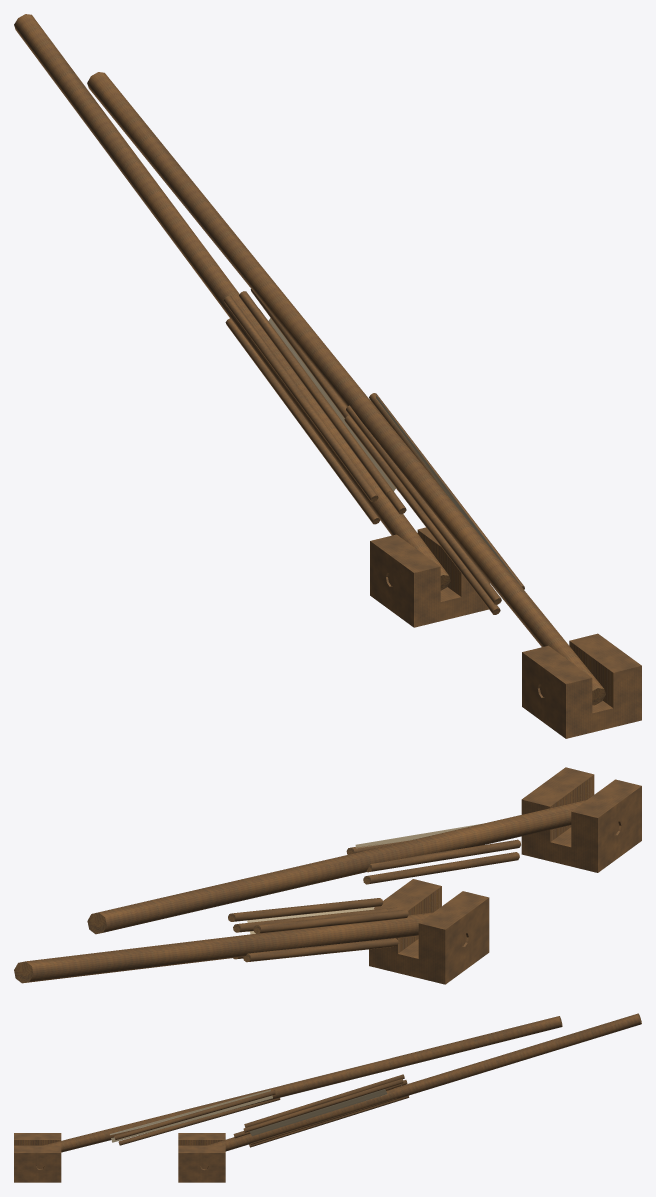
File: MasterIdle.FBX
3 renders of one model, top to bottom at view 1: azimuth 30°, elevation 25°; view 2: azimuth 150°, elevation 25°; view 3: azimuth 270°, elevation 25°, orthographic. The views are drawn at different scales.
Parts seen in each view (by area): view 1: SailPole, SailPoleSub, BaseSailPole, BaseSailPoleSub, SailClothPoleSub002, SailClothPoleSub003, SailClothPoleSub005, SailClothPoleMain004, SailClothPoleMain005, SailClothPoleMain002; view 2: SailPole, BaseSailPole, SailPoleSub, BaseSailPoleSub, SailClothPoleSub002, SailClothPoleMain005, SailClothPoleSub001, SailClothPoleSub005, SailClothPoleMain004, SailClothPoleSub003, SailCloth001, SailSubCloth002; view 3: SailPole, SailPoleSub, BaseSailPole, BaseSailPoleSub, SailCloth001, SailSubCloth002, SailClothPoleMain002, SailClothPoleSub001, SailClothPoleMain005, SailClothPoleSub002, SailClothPoleSub004, SailClothPoleSub006.
Part boxes in pixels (x1,y1,x2,y2): SailPole: (87, 72, 605, 705); SailPoleSub: (14, 14, 450, 590); BaseSailPole: (522, 633, 641, 738); BaseSailPoleSub: (370, 527, 489, 627); SailClothPoleSub002: (223, 296, 378, 502); SailClothPoleSub003: (239, 291, 392, 496); SailClothPoleSub005: (225, 318, 380, 524); SailClothPoleMain004: (346, 405, 501, 604); SailClothPoleMain005: (344, 415, 500, 614); SailClothPoleMain002: (369, 393, 524, 589); SailPole: (87, 800, 586, 934); BaseSailPole: (521, 767, 641, 872); SailPoleSub: (14, 912, 432, 983); BaseSailPoleSub: (369, 879, 489, 984); SailClothPoleSub002: (253, 909, 408, 933); SailClothPoleMain005: (363, 852, 519, 884); SailClothPoleSub001: (228, 898, 383, 921); SailClothPoleSub005: (243, 938, 398, 962); SailClothPoleMain004: (366, 839, 520, 872); SailClothPoleSub003: (233, 908, 387, 932); SailCloth001: (355, 823, 482, 848); SailSubCloth002: (247, 907, 374, 934); SailPole: (43, 1016, 562, 1152); SailPoleSub: (207, 1013, 641, 1151); BaseSailPole: (14, 1133, 61, 1182); BaseSailPoleSub: (178, 1133, 225, 1182); SailCloth001: (110, 1089, 272, 1142); SailSubCloth002: (249, 1089, 387, 1136); SailClothPoleMain002: (114, 1090, 275, 1139); SailClothPoleSub001: (243, 1078, 403, 1132); SailClothPoleMain005: (118, 1098, 280, 1145); SailClothPoleSub002: (244, 1074, 404, 1127); SailClothPoleSub004: (249, 1095, 409, 1147); SailClothPoleSub006: (250, 1098, 396, 1144).
Bounding box in the file's own units: 2.09 × 7.71 × 27.65.
